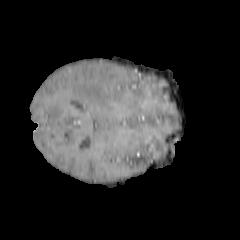glioma: (61, 64, 130, 110)
